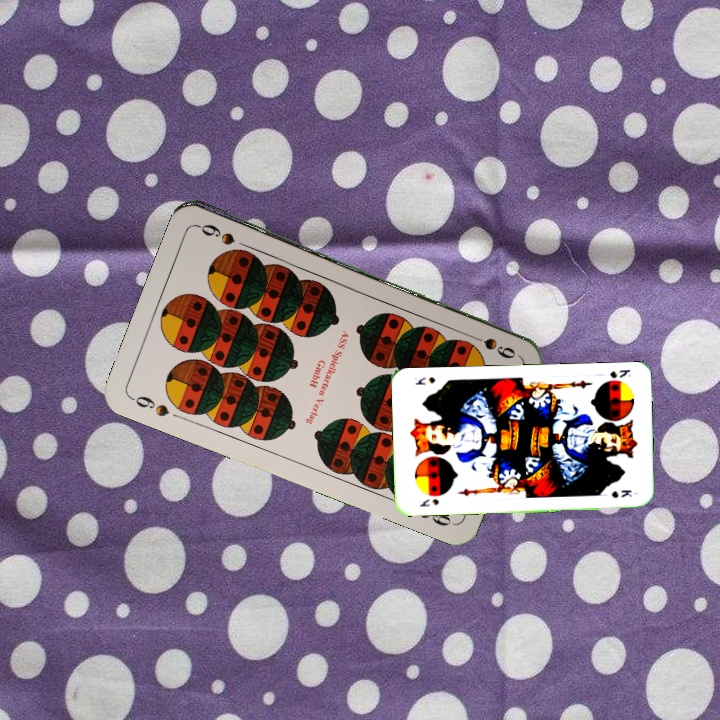S9: (463, 329, 519, 361), (126, 391, 172, 420)
SK: (606, 365, 634, 380), (416, 495, 441, 509)
